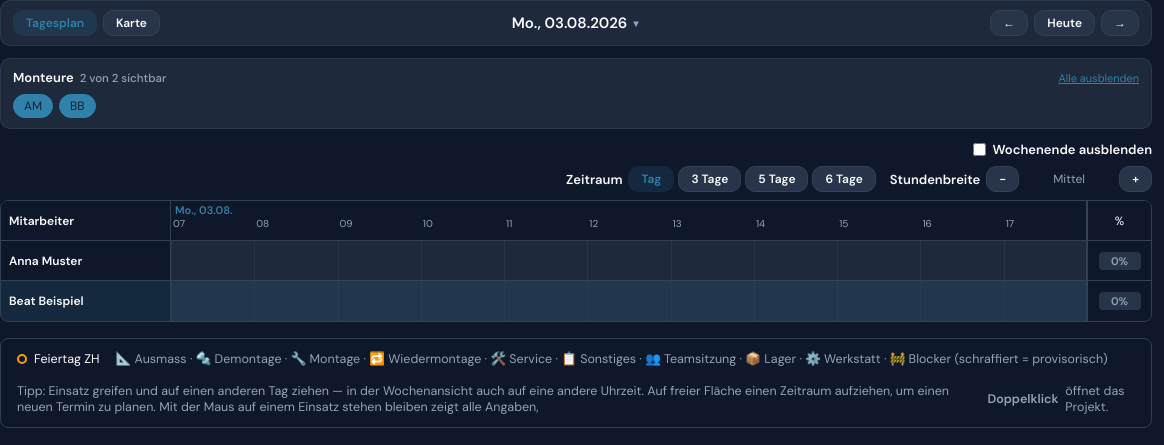
Test: Tagesplan (Gantt) › «6 Tage» zeigt ab Montag die Woche bis Samstag und wird gemerkt (WW-60)
Click the button "6 Tage". click: [844, 179]
box: x1=812 y1=166 x2=876 y2=192
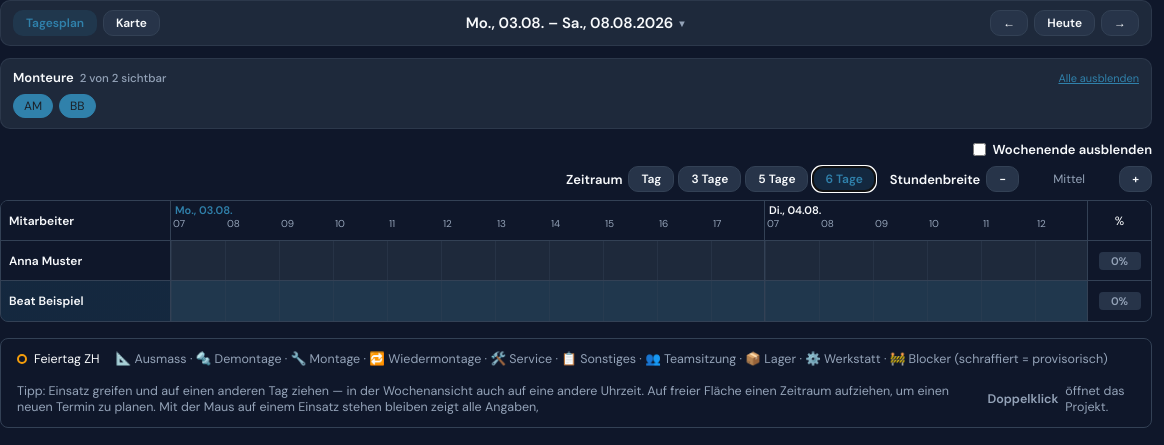
Now the button "Mo., 03.08. – Sa., 08.08.2026 ▾" is shown, box x1=455 y1=9 x2=695 y2=37
Weiter geht es in Sechs-Tages-Schritten.
Click the button "→". click: [1120, 23]
box: x1=1101 y1=10 x2=1139 y2=36
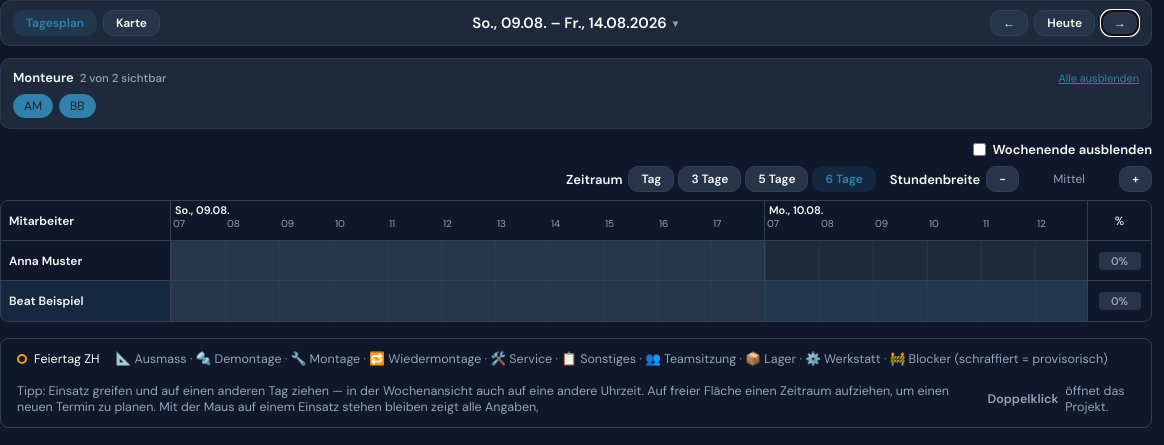
Now the button "So., 09.08. – Fr., 14.08.2026 ▾" is shown, box x1=461 y1=9 x2=689 y2=37
